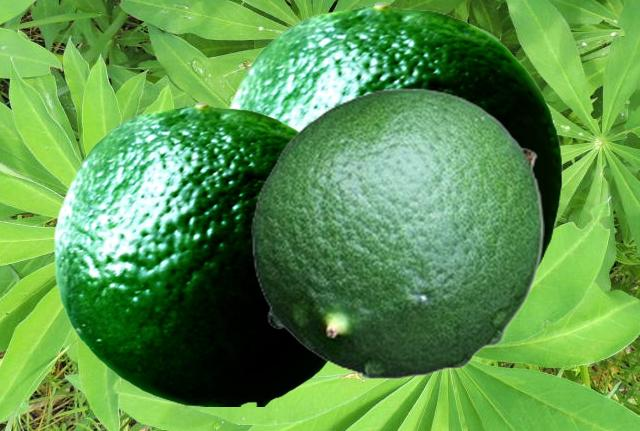calamansi: (226, 1, 561, 271), (251, 87, 543, 378), (54, 101, 328, 405)
